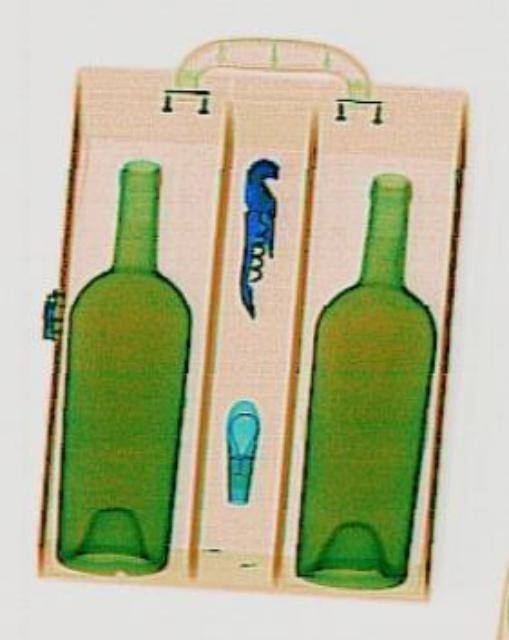Knife: (227, 151, 280, 317)
